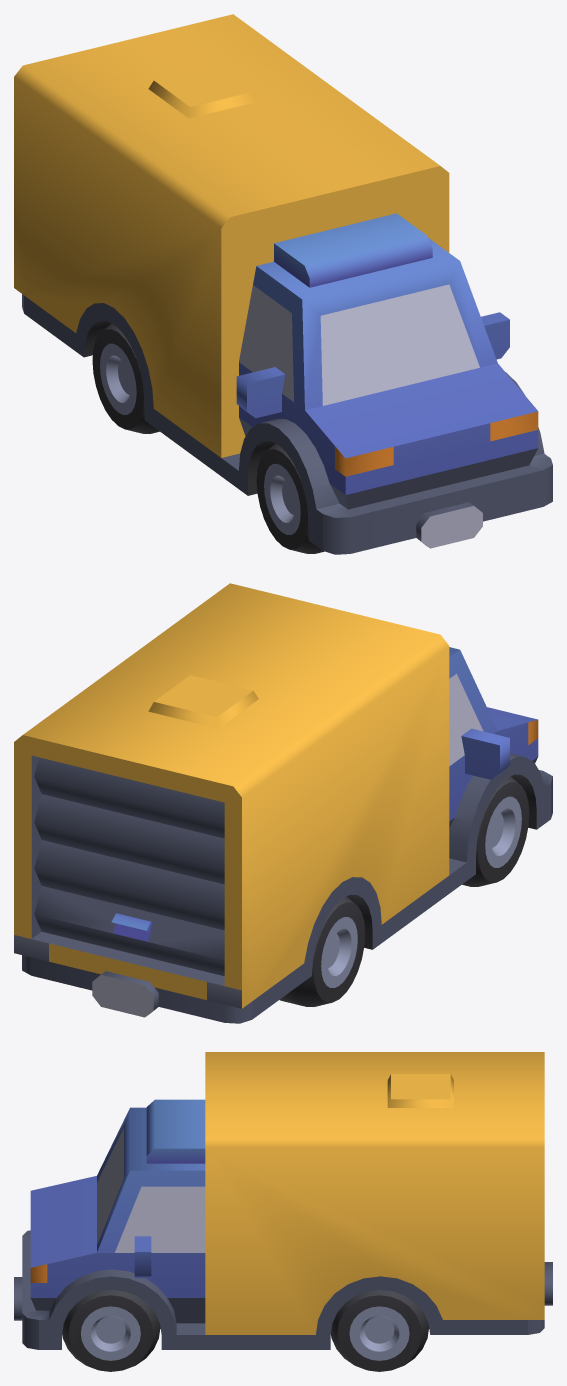
Rendered from vehicle-delivery-yellow.glb.
The picture shows the model from 3 angles, top to bottom: view 1: azimuth 30°, elevation 25°; view 2: azimuth 150°, elevation 25°; view 3: azimuth 270°, elevation 25°; orthographic projection. The views are drawn at different scales.
Visible parts, largest first — view 1: body, wheel-back-right, wheel-front-right; view 2: body, wheel-back-right, wheel-front-right; view 3: body, wheel-front-left, wheel-back-left.
Part boxes in pixels (<box>): body: <box>14,14,552,554</box>; wheel-back-right: <box>92,323,159,433</box>; wheel-front-right: <box>256,443,324,553</box>; body: <box>14,583,552,1023</box>; wheel-back-right: <box>279,896,365,1006</box>; wheel-front-right: <box>462,776,529,886</box>; body: <box>14,1052,552,1349</box>; wheel-front-left: <box>62,1290,160,1371</box>; wheel-back-left: <box>331,1290,428,1371</box>.
Bounding box in the file's own units: 1.5 × 1.65 × 3.25.
1 material, 1 textured.
